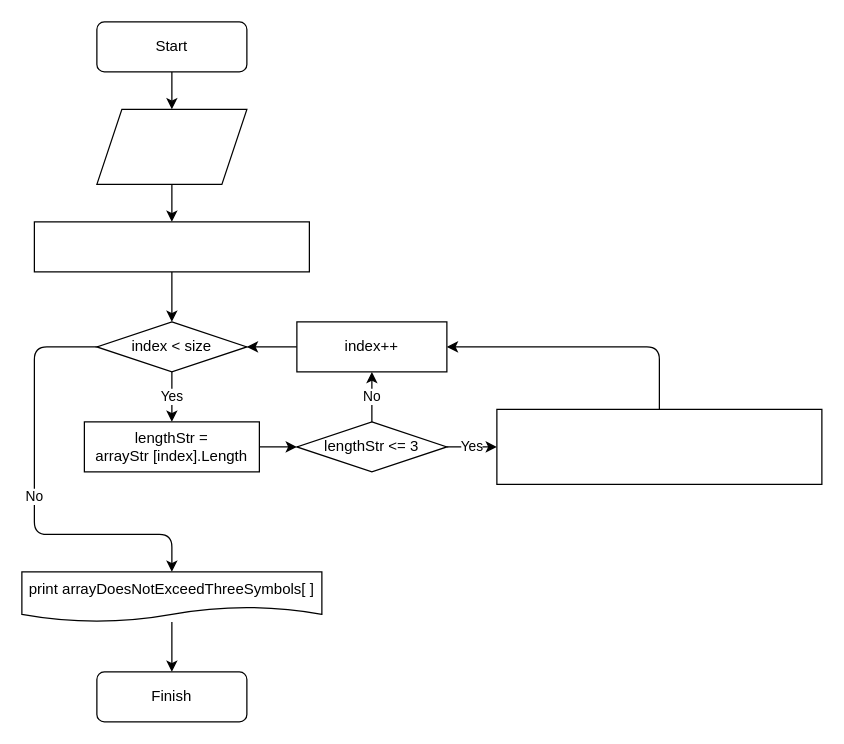
This 844x744 diagram has some shape labels left out. The centre of each missing label's shape, as x and y in pixels:
"arrayDoesNotExceedThreeSymbols [ ] index = 0" goes at (171,246).
"arrayDoesNotExceedThreeSymbols [current] = arrayStr [index] current++" goes at (659,446).
"arrayStr [size] current = 0" goes at (171,146).
